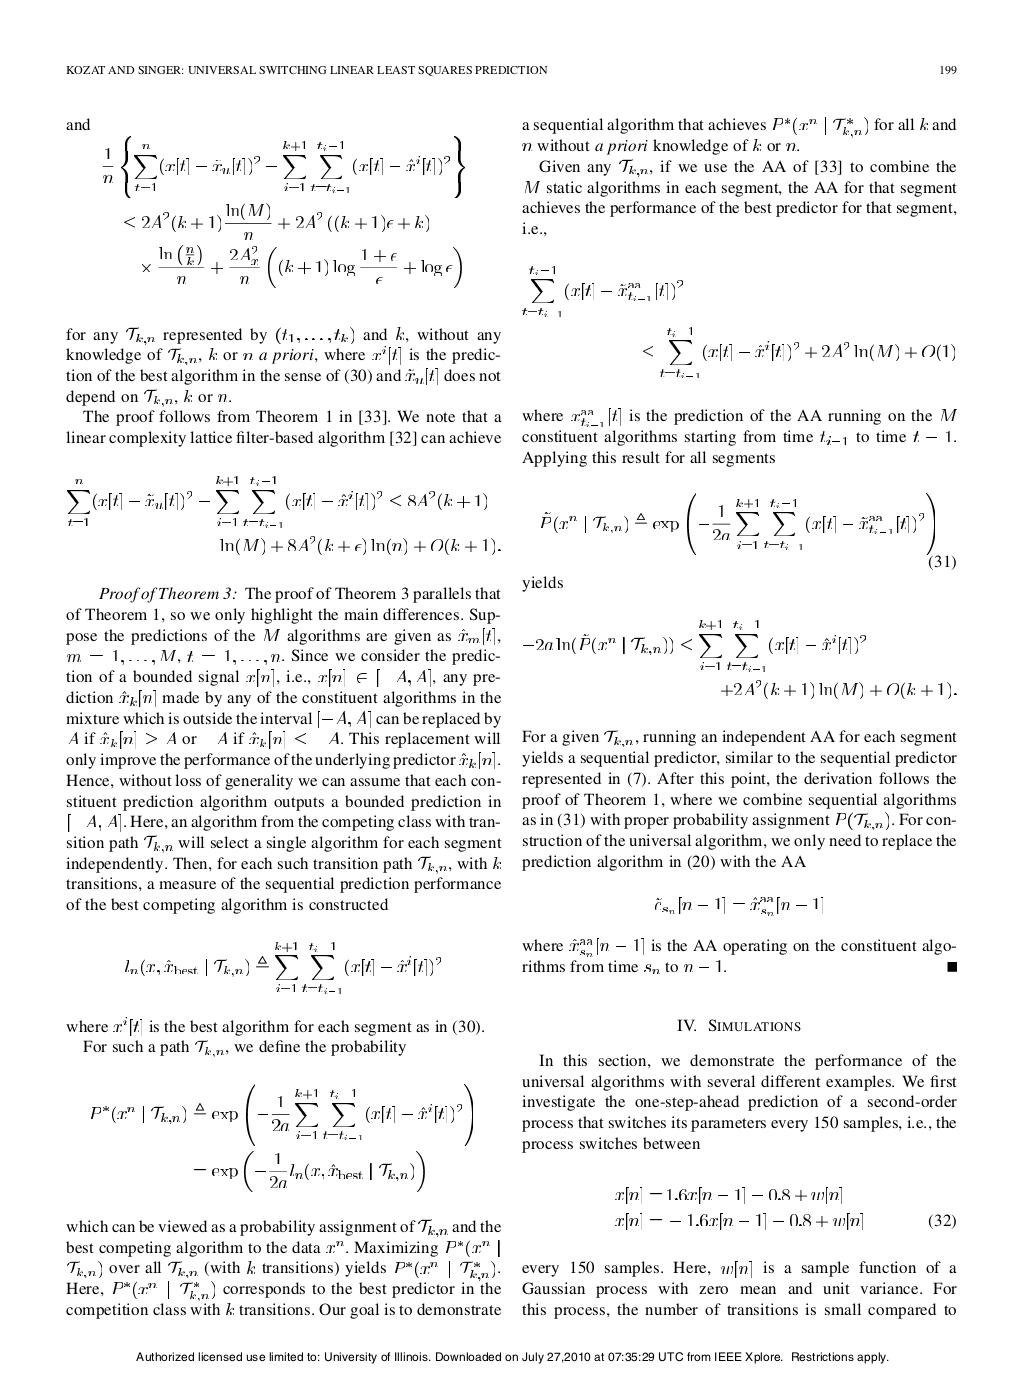formula: (541, 492, 955, 570), (91, 1082, 472, 1146), (102, 135, 464, 198), (67, 476, 486, 527), (523, 620, 864, 671), (126, 942, 440, 993), (643, 327, 954, 377), (142, 245, 461, 288), (124, 202, 428, 240), (194, 1150, 424, 1192), (521, 266, 682, 316), (615, 1212, 955, 1230), (220, 534, 500, 555), (721, 679, 956, 699), (615, 1185, 841, 1204), (655, 895, 822, 916)
